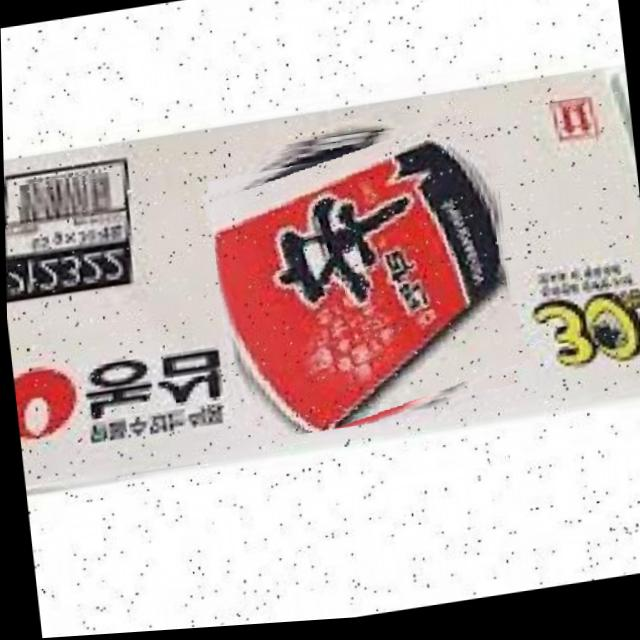Miscellaneous: (202, 115, 524, 448)
